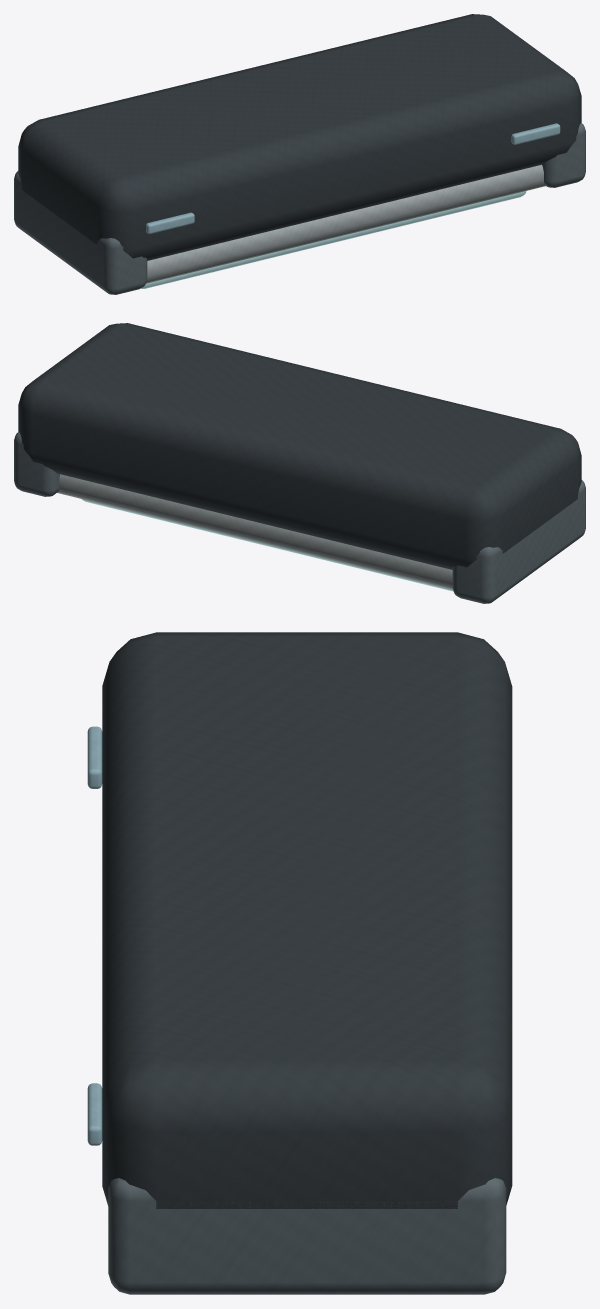
File: CeilingLight.glb
The picture shows the model from 3 angles, top to bottom: view 1: azimuth 30°, elevation 25°; view 2: azimuth 150°, elevation 25°; view 3: azimuth 270°, elevation 25°; orthographic projection. The views are drawn at different scales.
Visible parts, largest first — view 1: CeilingLight_Mesh; view 2: CeilingLight_Mesh; view 3: CeilingLight_Mesh.
Boxes of the visible parts, x1,y1,x2,y2 form: CeilingLight_Mesh: [14, 14, 585, 294]; CeilingLight_Mesh: [14, 323, 585, 603]; CeilingLight_Mesh: [87, 632, 512, 1294].
Bounding box in the file's own units: 0.92 × 0.236 × 0.352.
6 materials, 6 textured.
